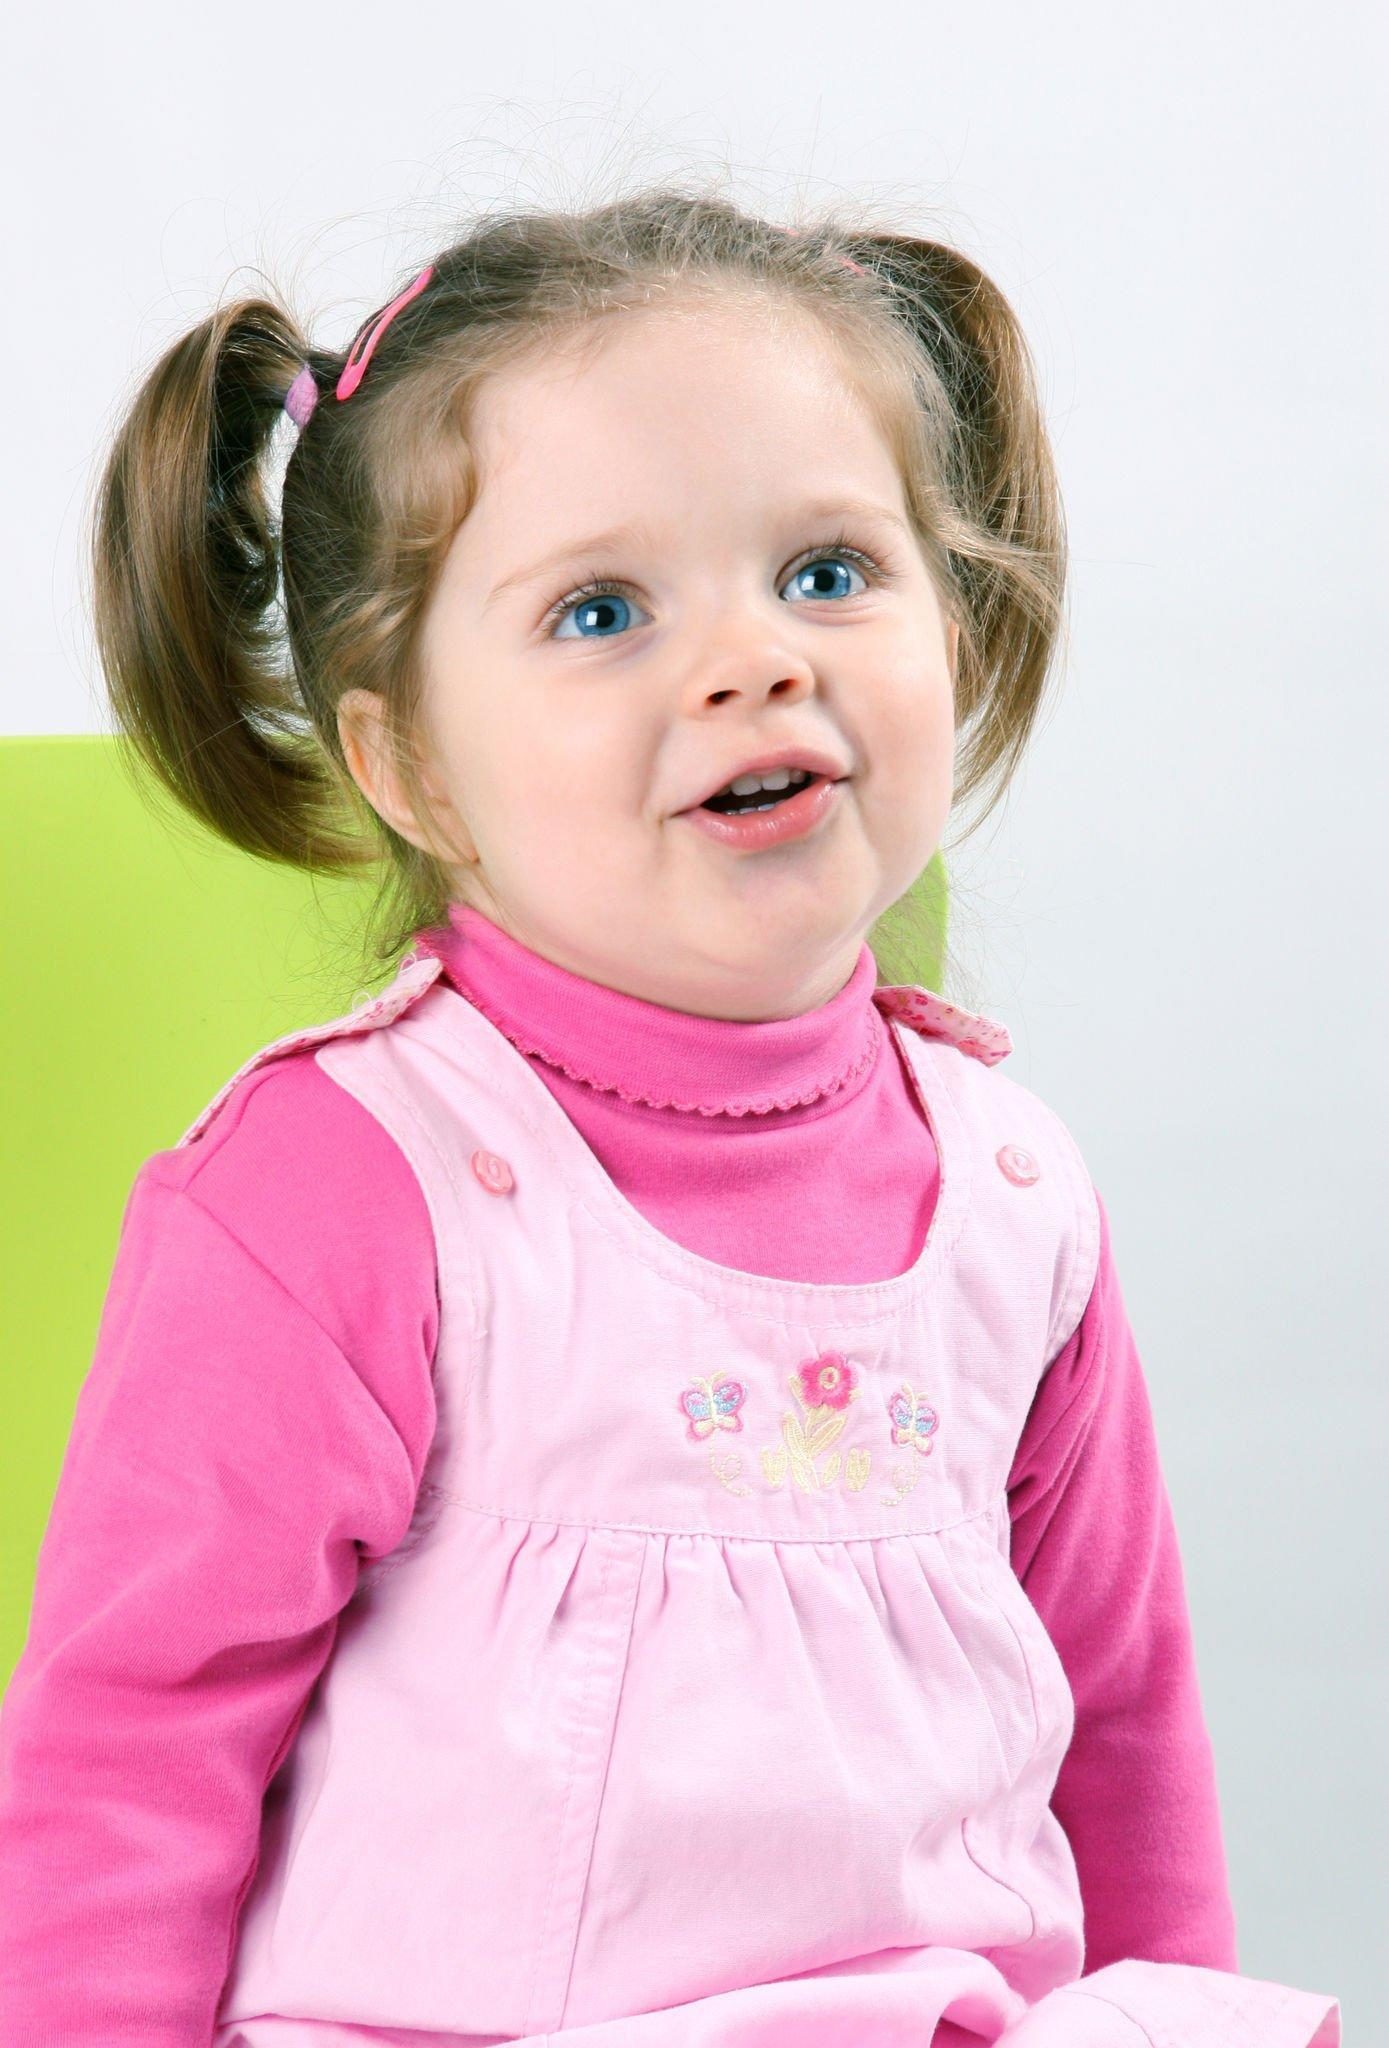Healthy: (392, 321, 980, 1015)
